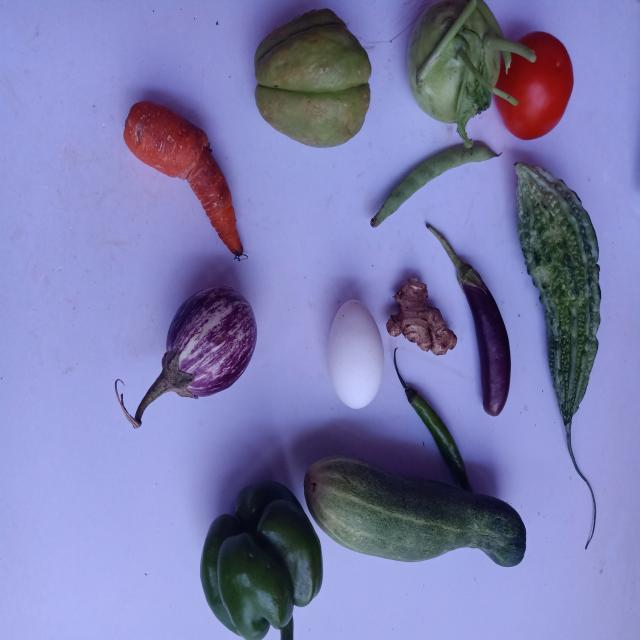Beans: (371, 140, 499, 227)
Bitter Gourd: (516, 162, 602, 494)
Brinjal: (427, 224, 512, 415)
Capsicum: (200, 482, 323, 640)
Carrot: (123, 100, 243, 255)
Chayote: (238, 5, 374, 152)
Cucumber: (304, 457, 527, 567)
Egg: (328, 299, 384, 409)
Eggplant: (114, 287, 256, 428)
Ginger: (387, 277, 457, 355)
Green Chilly: (394, 348, 473, 492)
Tomato: (494, 30, 575, 138)
Turnip: (408, 0, 536, 147)
